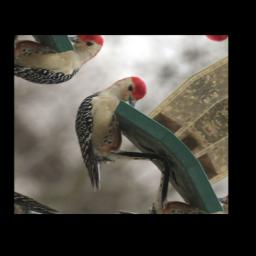Woodpecker: (36, 67, 189, 196)
